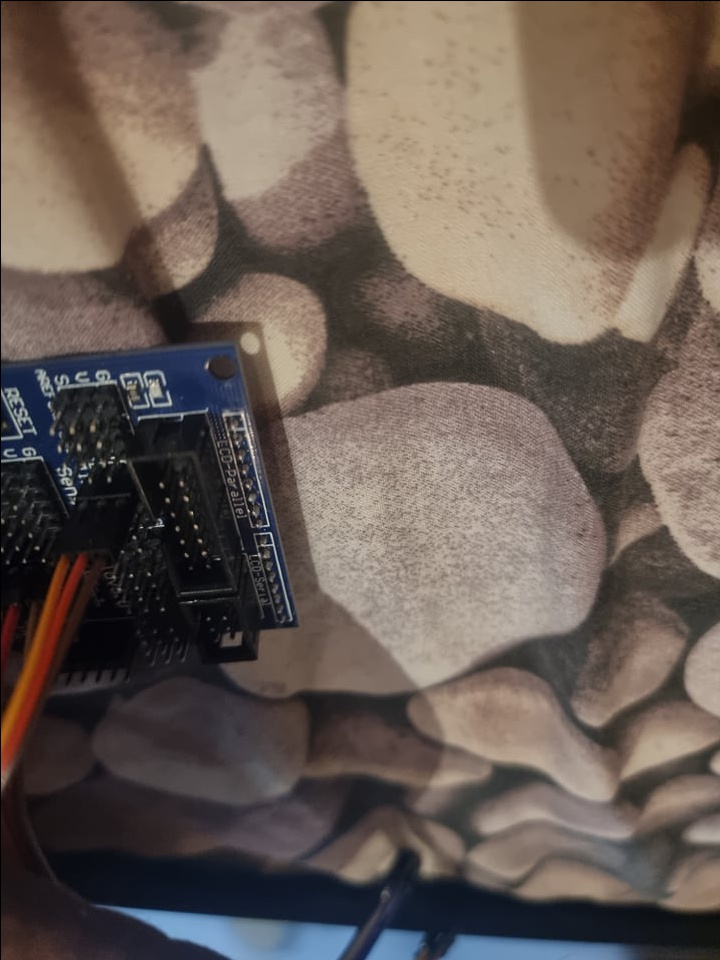5V EXPANSION: (0, 338, 295, 685)
